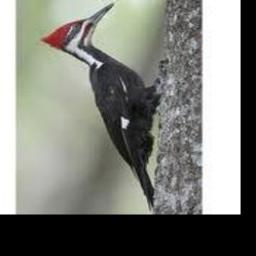Woodpecker: (39, 3, 161, 210)
